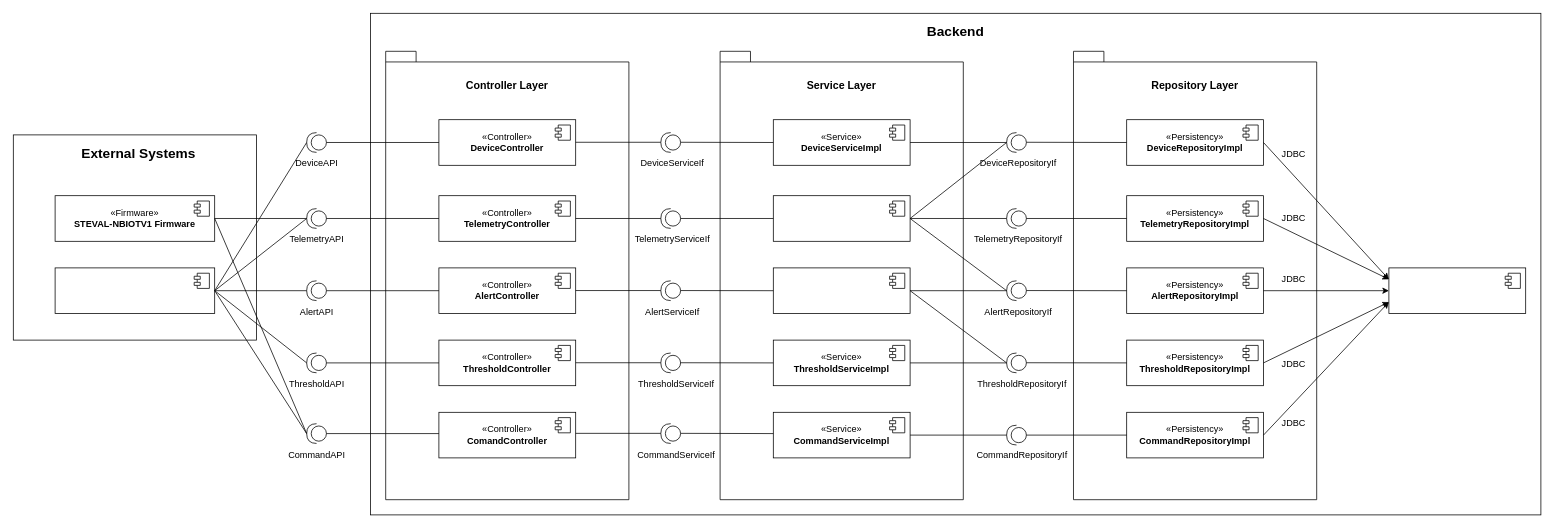
Some shapes in this 1554 by 528 pixel diagram are drawn without their labels. Each missing label, with the centre of its shape:
"«Boundary» Web Dashboard Client" goes at (x=134, y=290).
"«Database» SQLite DB" goes at (x=1457, y=290).
"«Service» AlertServiceImpl" goes at (x=841, y=290).
"«Service» TelemetryServiceImpl" goes at (x=841, y=218).
